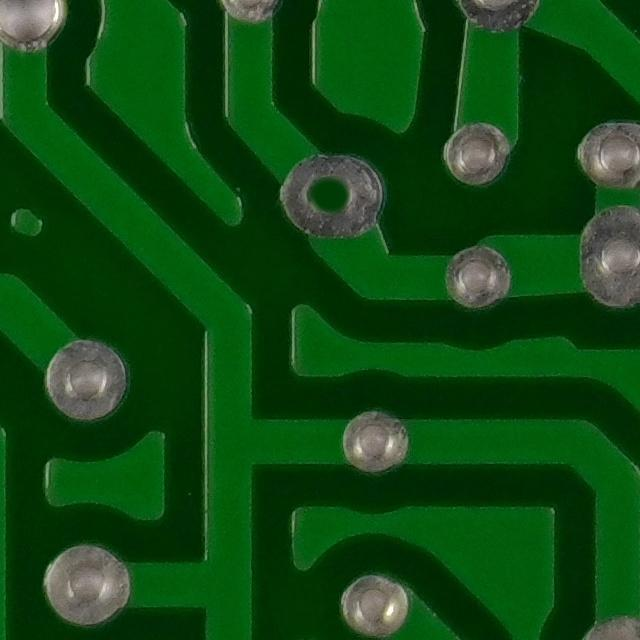missing_hole: (266, 137, 399, 249)
